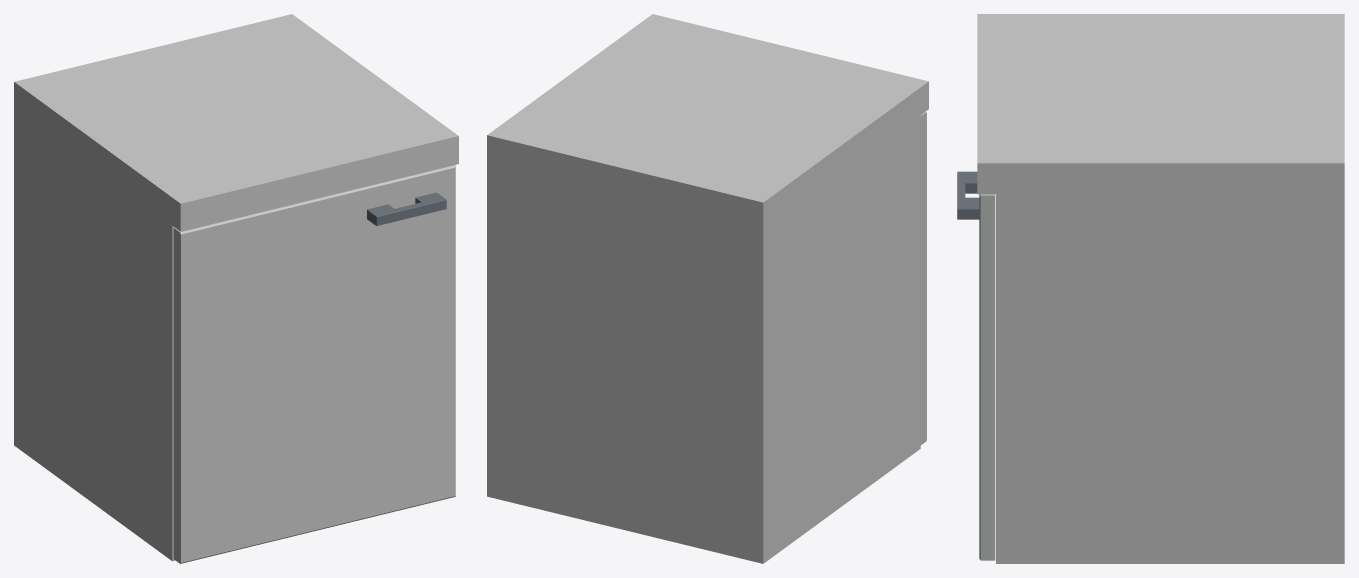
File: kaappikapea_GJ22.fbx
The picture shows the model from 3 angles, left to right: view 1: azimuth 30°, elevation 25°; view 2: azimuth 150°, elevation 25°; view 3: azimuth 270°, elevation 25°; orthographic projection. The views are drawn at different scales.
Parts seen in each view (by area): view 1: Kaappi, Ovi; view 2: Kaappi, Ovi; view 3: Kaappi, Ovi.
Part boxes in pixels (x1,y1,x2,y2): Kaappi: [14, 14, 458, 561]; Ovi: [173, 165, 455, 563]; Kaappi: [487, 14, 928, 563]; Ovi: [920, 112, 926, 445]; Kaappi: [977, 14, 1344, 563]; Ovi: [957, 171, 995, 560].
Bounding box in the file's own units: 80 × 100 × 87.57.
